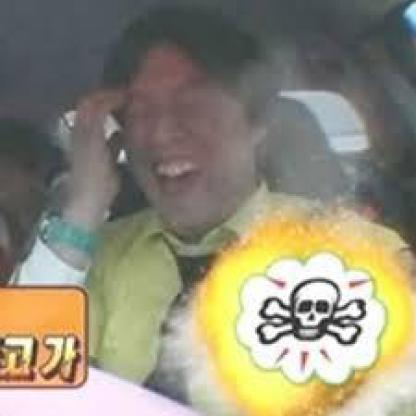skull: (256, 274, 368, 349)
